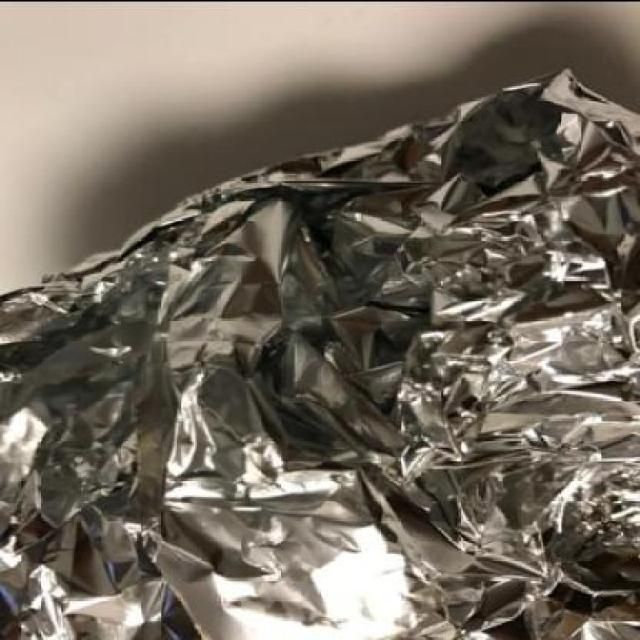METAL: (1, 66, 640, 638)
